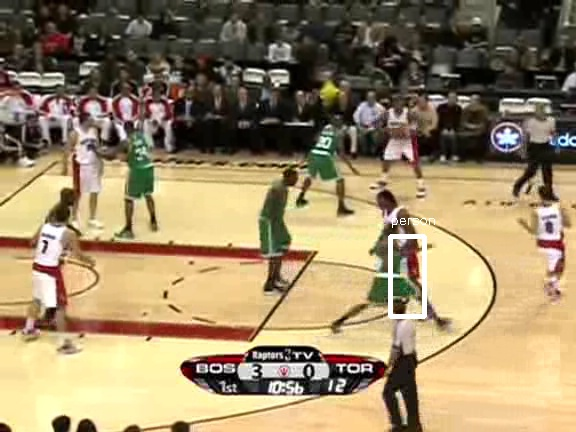person: (372, 235, 406, 316), (371, 235, 405, 316), (373, 235, 407, 316), (372, 234, 406, 315), (372, 236, 406, 317)
target_negative: (152, 131, 424, 379), (49, 32, 309, 174), (450, 304, 529, 384), (485, 323, 559, 385), (546, 325, 548, 370)
